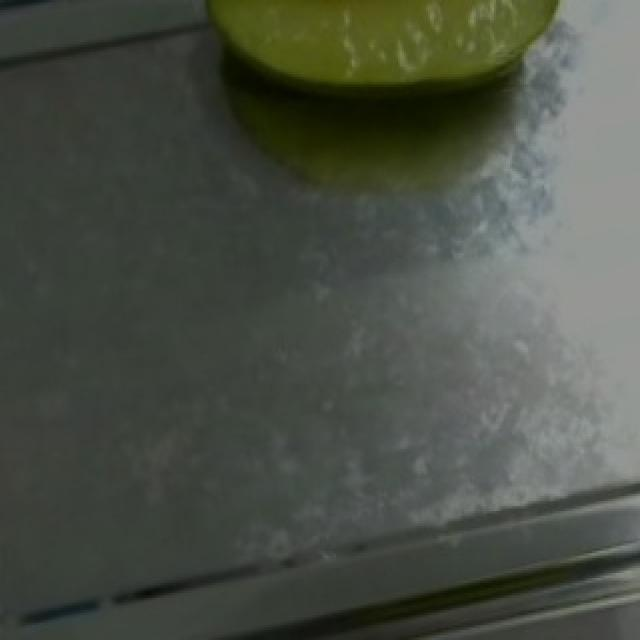fruit: (182, 0, 576, 114)
